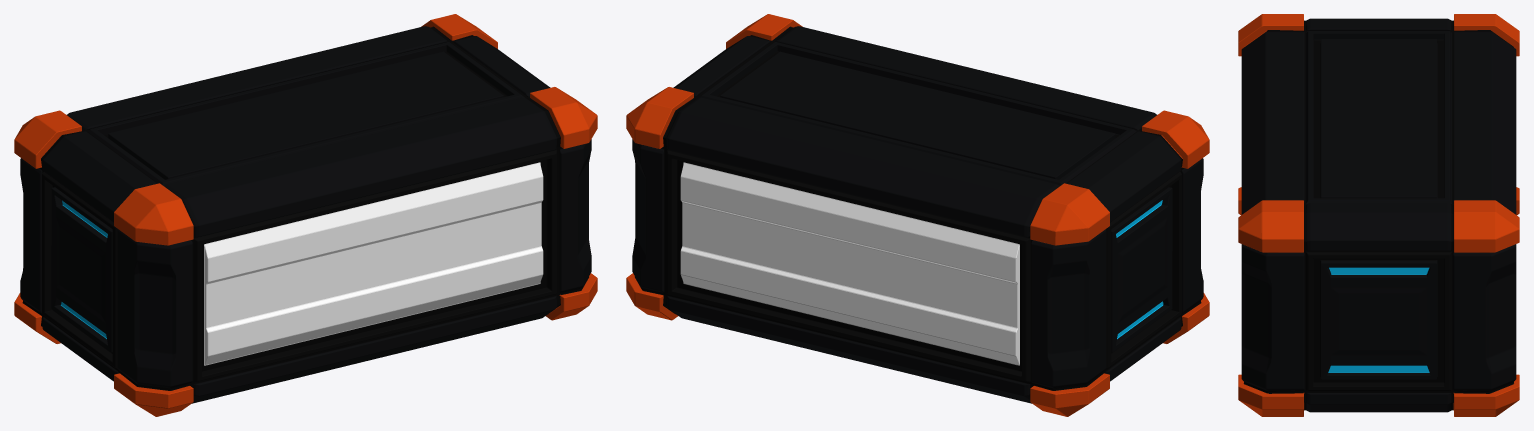
Rendered from SM_Defense_AmmoCrate.obj.
3 renders of one model, left to right at view 1: azimuth 30°, elevation 25°; view 2: azimuth 150°, elevation 25°; view 3: azimuth 270°, elevation 25°, orthographic. The views are drawn at different scales.
Parts seen in each view (by area): view 1: SM_Defense_AmmoCrate; view 2: SM_Defense_AmmoCrate; view 3: SM_Defense_AmmoCrate.
Part boxes in pixels (x1,y1,x2,y2): SM_Defense_AmmoCrate: [14, 14, 597, 416]; SM_Defense_AmmoCrate: [626, 14, 1209, 416]; SM_Defense_AmmoCrate: [1238, 14, 1519, 416].
Size of the model in its own units: 1.1 by 0.4823 by 0.6.
